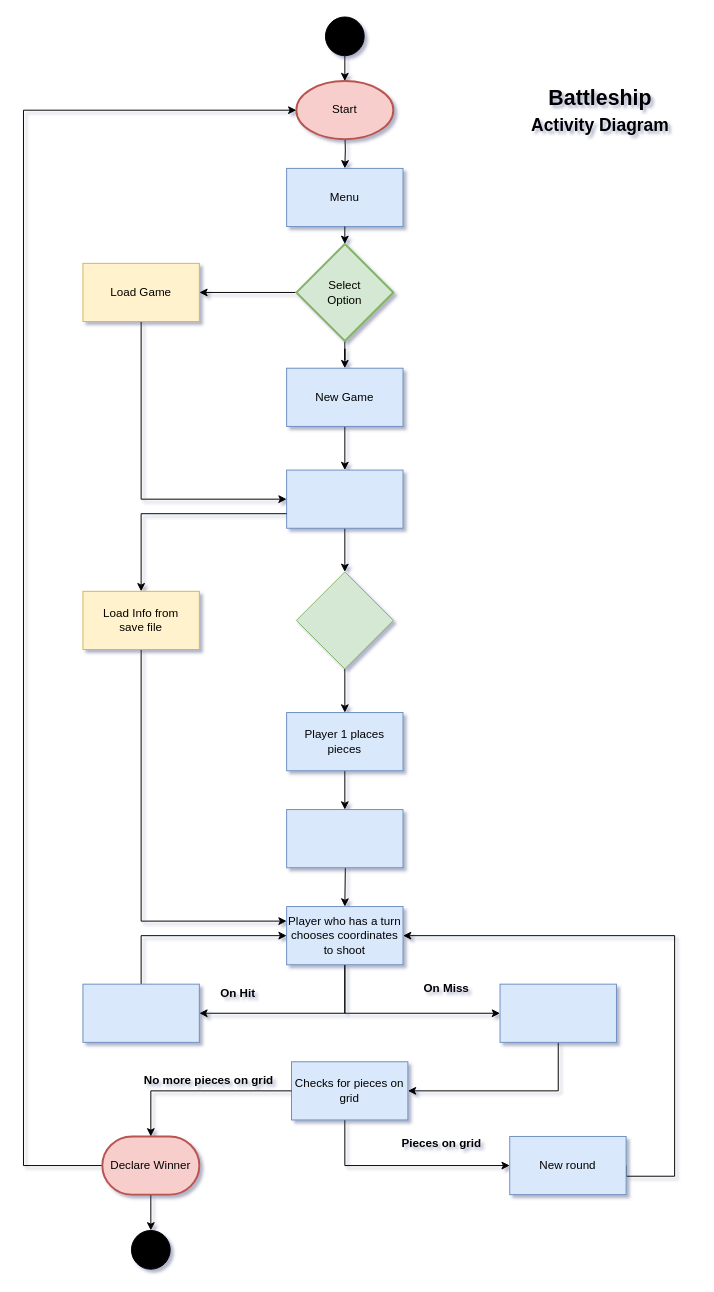
Image size: 714x1292. Some labels were removed from this diagram. Here are the shapes that lost their labels. From the top down, the centre of each, then its label:
the point at 344,498: Show grid
the point at 344,620: Decide who goes first
the point at 344,838: Player 2 places pieces
the point at 140,1012: Player has another turn
the point at 557,1012: Other player has turn
